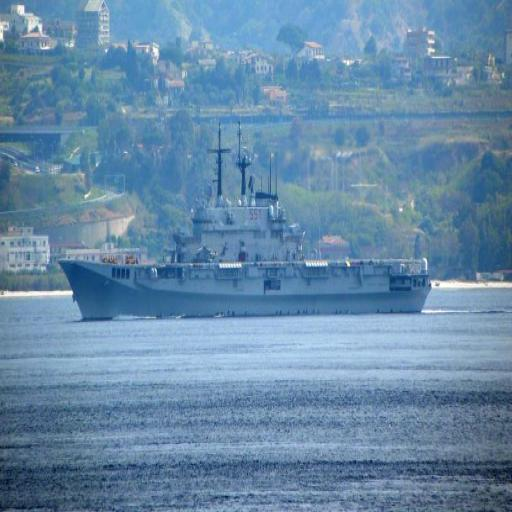Portanaves: (62, 120, 435, 325)
